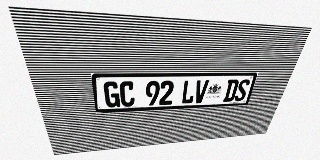2: (159, 80, 174, 105)
9: (146, 81, 160, 106)
C: (119, 81, 135, 107)
D: (223, 79, 240, 102)
G: (103, 81, 120, 108)
L: (181, 80, 197, 104)
S: (234, 79, 251, 101)
V: (193, 80, 209, 103)
